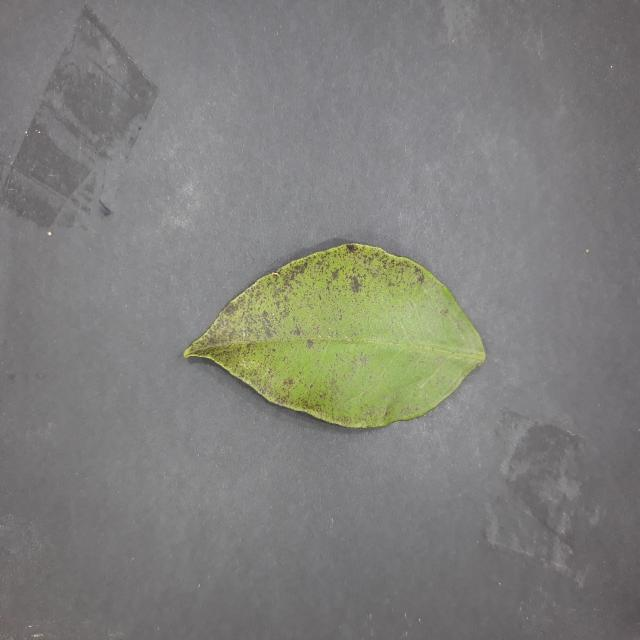greasy_spot: (184, 243, 485, 428)
